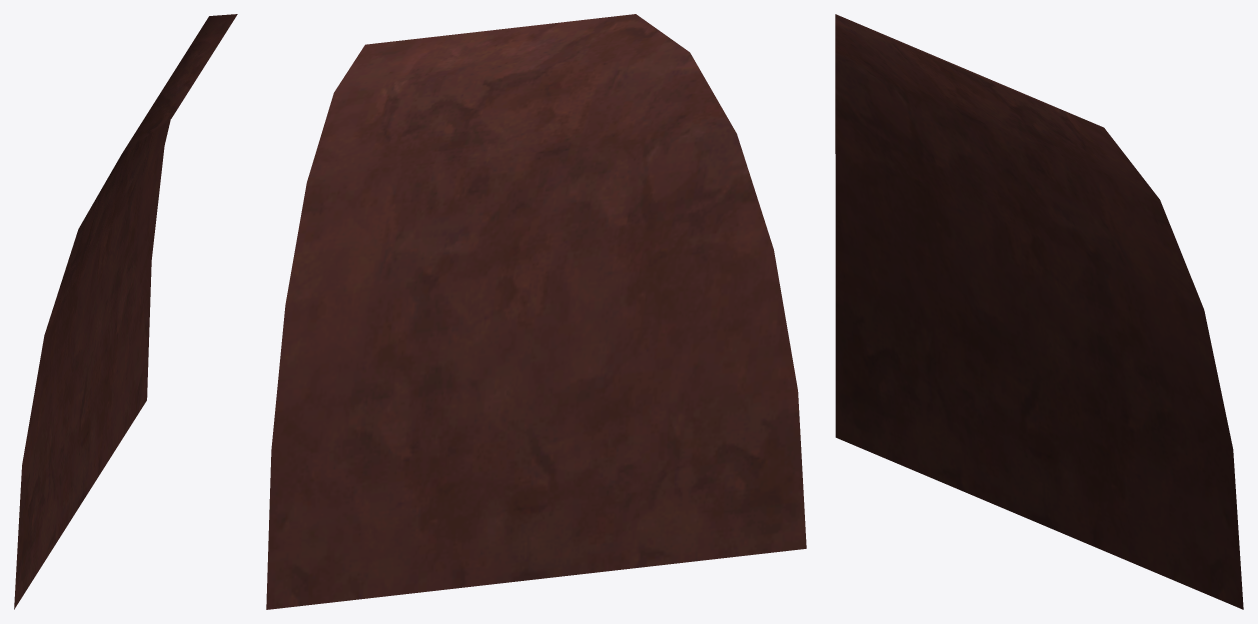
The model's file is lava_base_diagonal_01.fbx.
3 views of the same model, side by side, from view 1: azimuth 30°, elevation 25°; view 2: azimuth 150°, elevation 25°; view 3: azimuth 270°, elevation 25° (orthographic). The views are drawn at different scales.
Visible parts, largest first — view 1: lava_tileset/lava_wall02; view 2: lava_tileset/lava_wall02; view 3: lava_tileset/lava_wall02.
Boxes of the visible parts, bbox=[...] form: lava_tileset/lava_wall02: bbox=[14, 14, 237, 609]; lava_tileset/lava_wall02: bbox=[266, 14, 806, 609]; lava_tileset/lava_wall02: bbox=[835, 14, 1243, 609].
Size of the model in its own units: 4 by 5.5 by 4.
